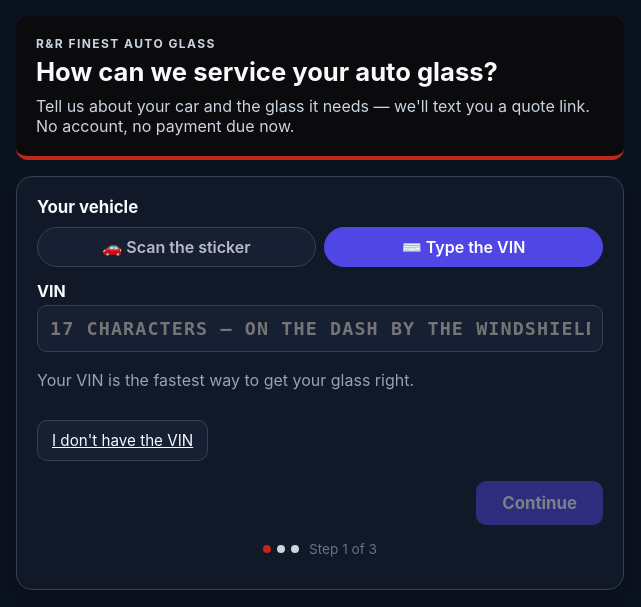
Scenario: public intake door-sticker scan (card 1) › switching tabs never loses a typed VIN
Replace the text in the field labelled "VIN" with "1C4H" at (320, 328), box left=37, top=305, right=603, bottom=352
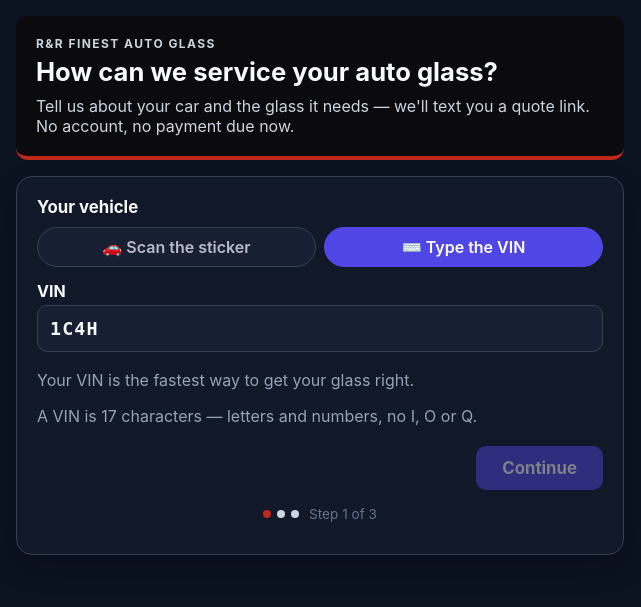
Click the button "🚗 Scan the sticker" at (176, 247), box left=37, top=227, right=316, bottom=267
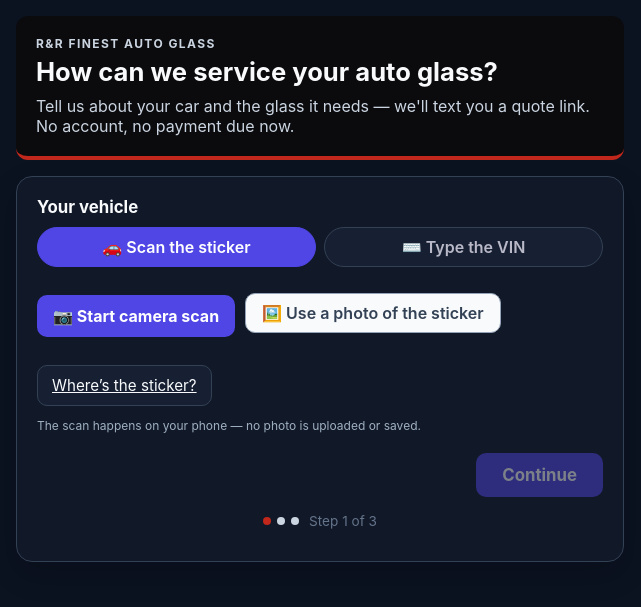
Click the button "⌨️ Type the VIN" at (464, 247), box left=324, top=227, right=603, bottom=267
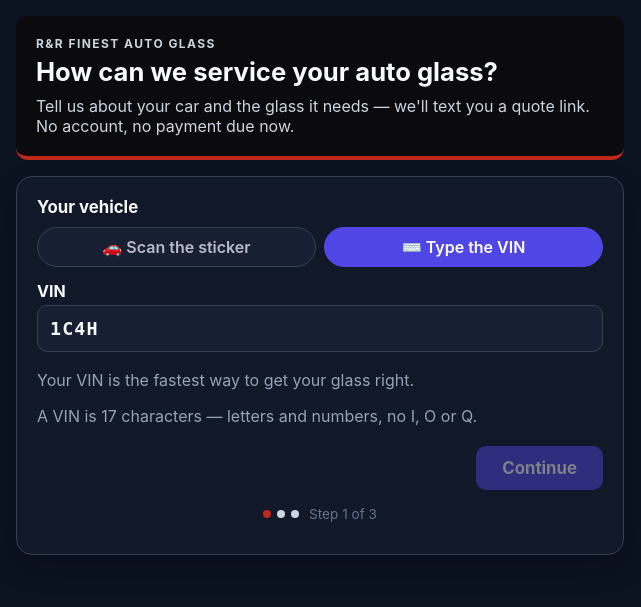
Check: the field labelled "VIN" holds "1C4H", box left=37, top=305, right=603, bottom=352
